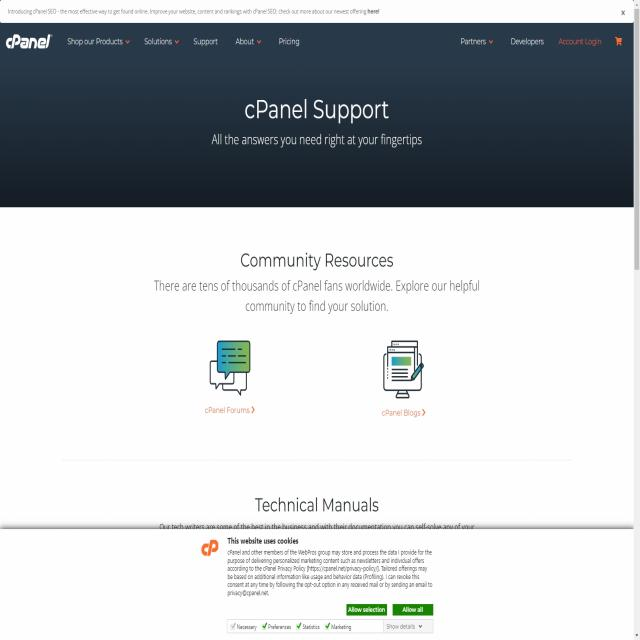menu-bar: (62, 30, 306, 52), (456, 28, 627, 54)
